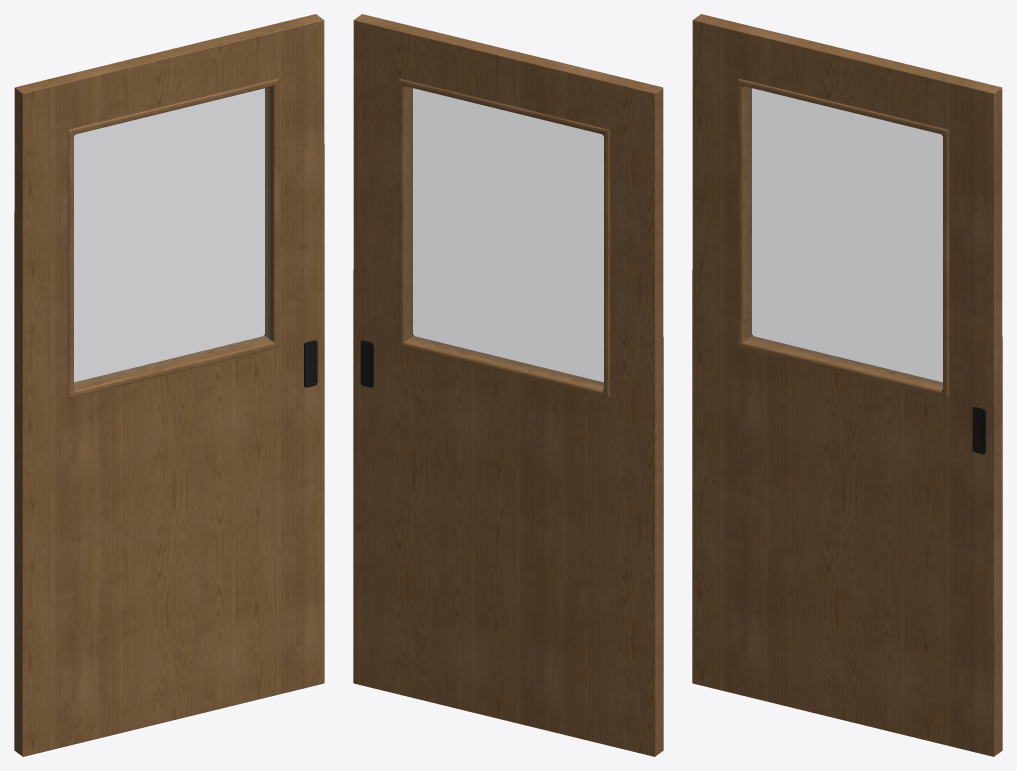
File: M_PartitionDoor.FBX
3 renders of one model, left to right at view 1: azimuth 30°, elevation 25°; view 2: azimuth 150°, elevation 25°; view 3: azimuth 330°, elevation 25°, orthographic.
Visible parts, largest first — view 1: Partition_Door; view 2: Partition_Door; view 3: Partition_Door.
Part boxes in pixels (<box>): Partition_Door: <box>14,14,324,756</box>; Partition_Door: <box>353,14,663,756</box>; Partition_Door: <box>692,14,1002,756</box>.
Bounding box in the file's own units: 100 × 210 × 6.31.
